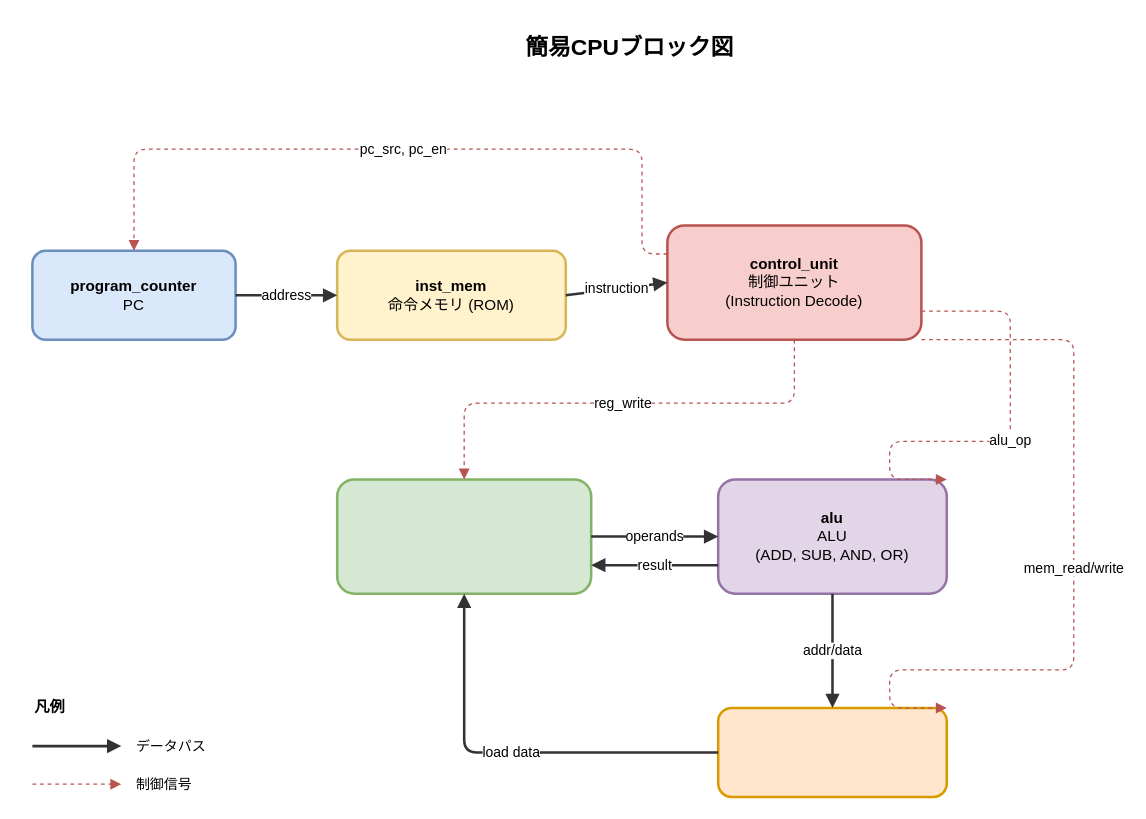
Image size: 1146x819. Some labels were removed from this diagram. The shapes that lost their labels are listed below. From the top down, each one's centre as x and y in pixels, then its label:
At [463,536]: "reg_file レジスタファイル (R0-R3, 4レジスタ)".
At [831,752]: "data_mem データメモリ (RAM)".
